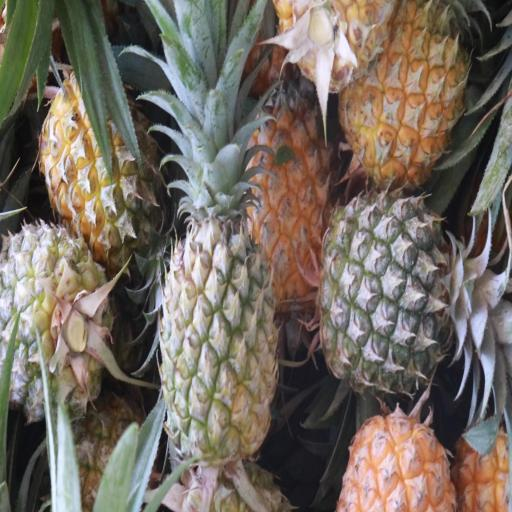------------------------------: (41, 61, 159, 259), (0, 229, 112, 420)
Pineapple - v8 v1: (340, 0, 468, 176), (244, 92, 330, 308), (333, 409, 454, 512)
